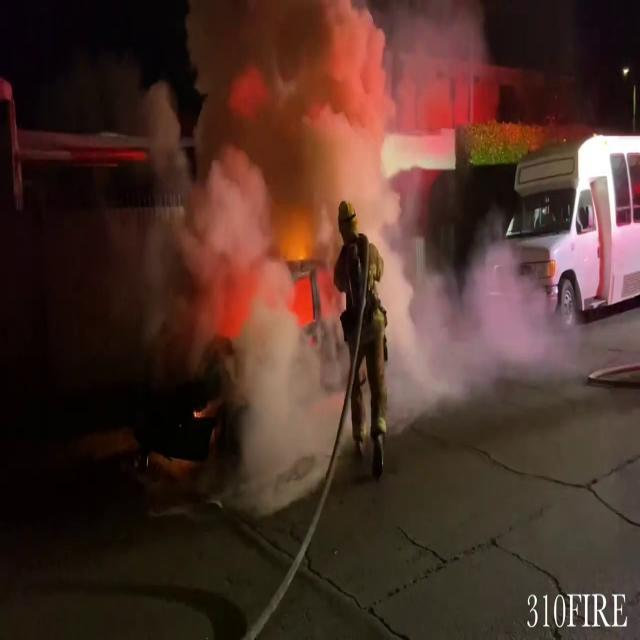Smoke: (113, 0, 435, 440), (385, 226, 581, 420)
